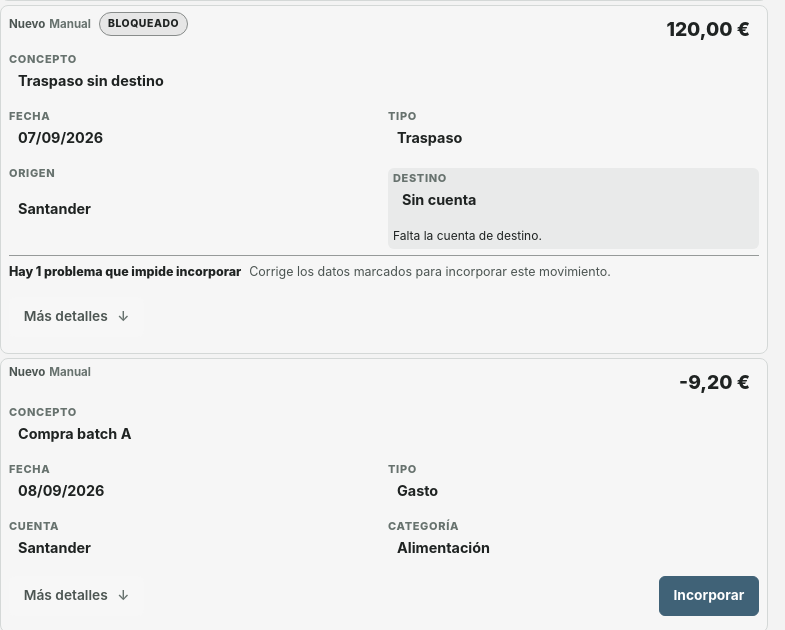
it: Review Decision Queue UI Lab › guarda una edición decimal introducida con coma local
(page scrolled)
Click the button named "Importe: -9,20 €" at (715, 385), box [670,365,759,405]
(page scrolled)
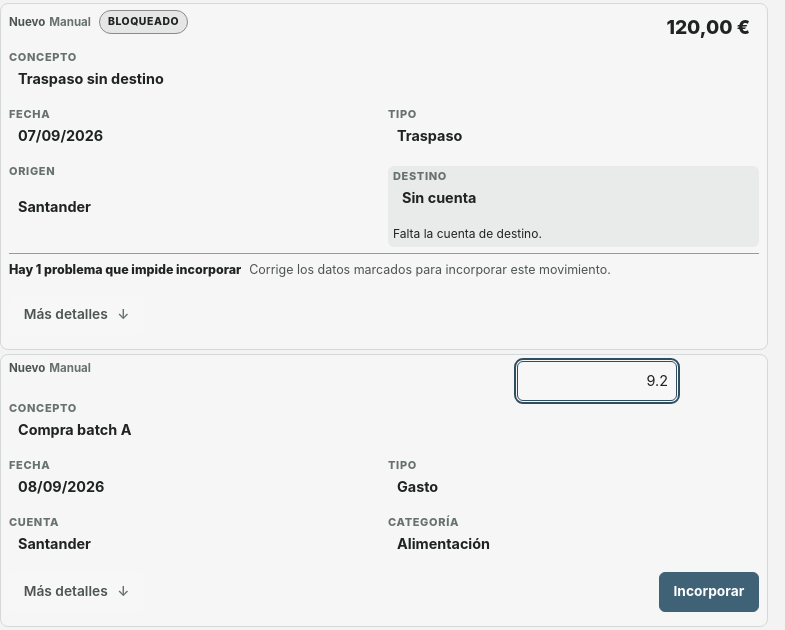
Replace the text in the field named "Importe" with "12,50" at (597, 381), box [517,361,677,401]
(page scrolled)
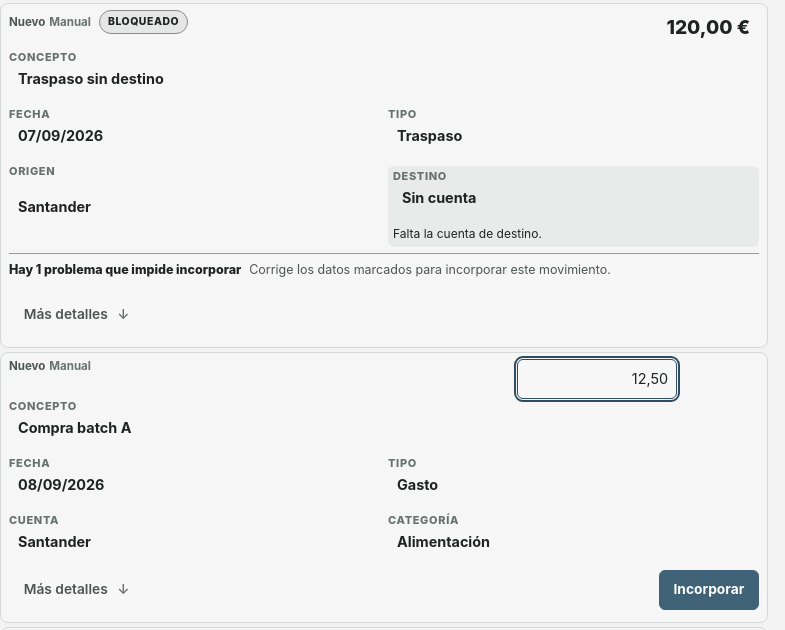
Press Enter in the field named "Importe", box [517,359,677,399]
(page scrolled)
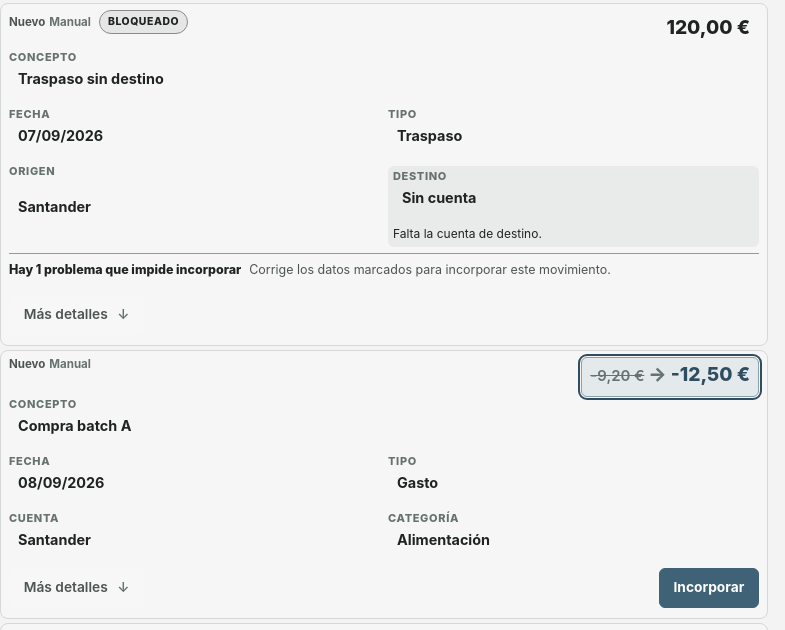
Check: the button named "Importe: -12,50 €" is shown, box [581,357,759,397]
